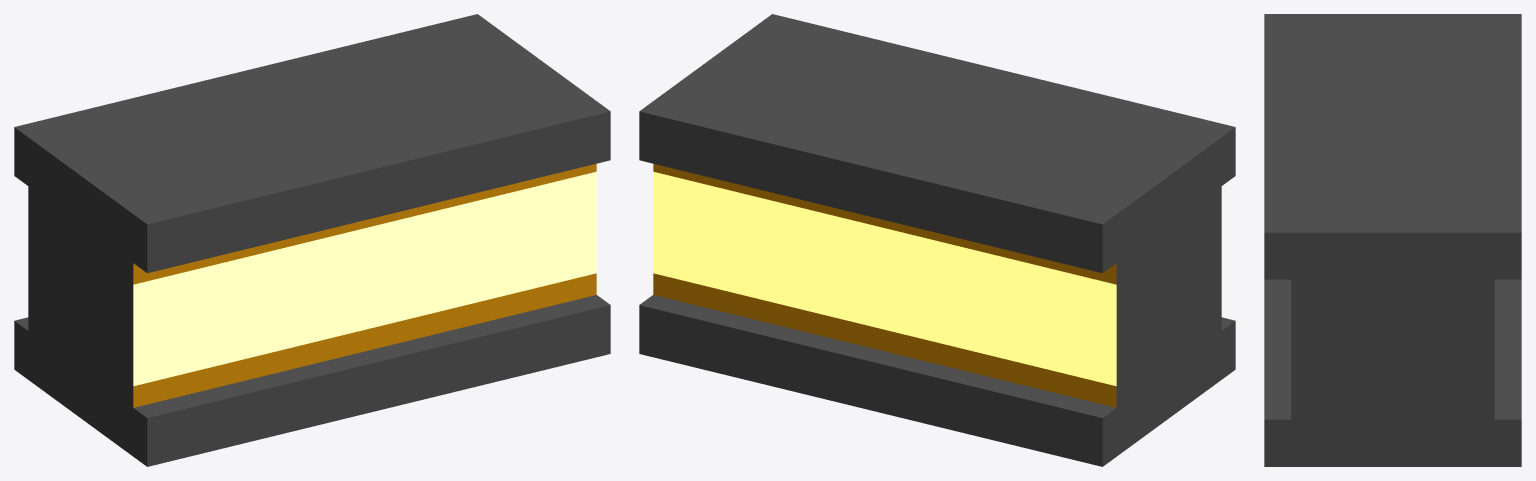
File: obj_dekotora_scrollingstripsmall.fbx
3 views of the same model, side by side, from view 1: azimuth 30°, elevation 25°; view 2: azimuth 150°, elevation 25°; view 3: azimuth 270°, elevation 25° (orthographic). The views are drawn at different scales.
Visible parts, largest first — view 1: Cube.064; view 2: Cube.064; view 3: Cube.064.
Part boxes in pixels (left/top/right/bottom): Cube.064: left=14, top=14, right=610, bottom=466; Cube.064: left=639, top=14, right=1235, bottom=466; Cube.064: left=1264, top=14, right=1521, bottom=466.
Bounding box in the file's own units: 2 × 1 × 0.995.
